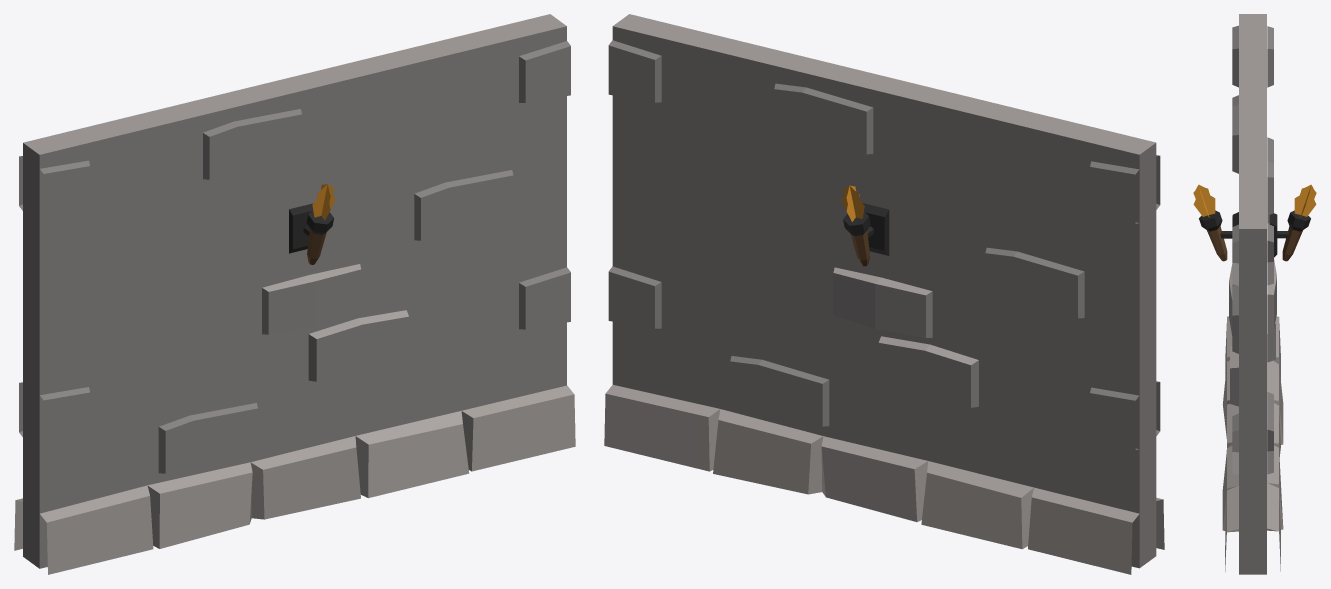
File: wall.obj
The picture shows the model from 3 angles, left to right: view 1: azimuth 30°, elevation 25°; view 2: azimuth 150°, elevation 25°; view 3: azimuth 270°, elevation 25°; orthographic projection. The views are drawn at different scales.
Visible parts, largest first — view 1: dungeon_wall.001, dungeon_wall, torche-wall_74.001; view 2: dungeon_wall, dungeon_wall.001, torche-wall_74; view 3: dungeon_wall, dungeon_wall.001, torche-wall_74, torche-wall_74.001.
Boxes of the visible parts, left/top/right/bottom form: dungeon_wall.001: left=24, top=15, right=575, bottom=574; dungeon_wall: left=14, top=14, right=564, bottom=557; torche-wall_74.001: left=289, top=184, right=335, bottom=264; dungeon_wall: left=604, top=15, right=1154, bottom=574; dungeon_wall.001: left=616, top=14, right=1164, bottom=566; torche-wall_74: left=841, top=185, right=889, bottom=266; dungeon_wall: left=1242, top=14, right=1283, bottom=574; dungeon_wall.001: left=1222, top=14, right=1264, bottom=574; torche-wall_74: left=1269, top=184, right=1316, bottom=261; torche-wall_74.001: left=1193, top=184, right=1238, bottom=261.
Bounding box in the file's own units: 4 × 3 × 0.9705.
